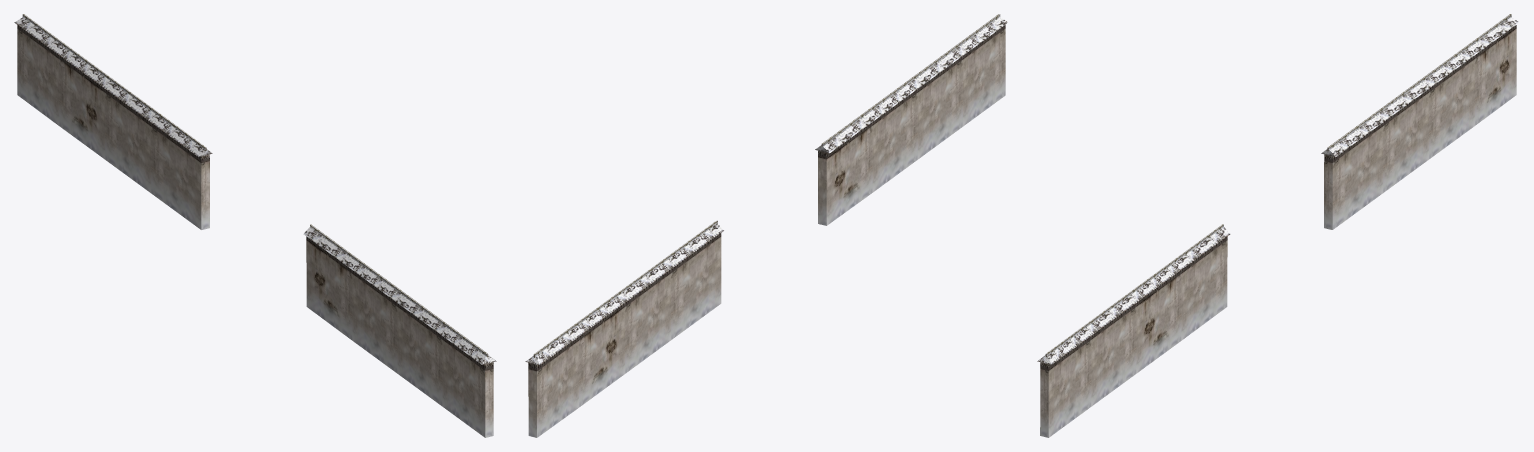
Rendered from aiqiang06.obj.
3 renders of one model, left to right at view 1: azimuth 30°, elevation 25°; view 2: azimuth 150°, elevation 25°; view 3: azimuth 330°, elevation 25°, orthographic.
Parts seen in each view (by area): view 1: aiqiang06; view 2: aiqiang06; view 3: aiqiang06.
Boxes of the visible parts, bbox=[...] form: aiqiang06: bbox=[14, 14, 496, 437]; aiqiang06: bbox=[525, 14, 1008, 437]; aiqiang06: bbox=[1037, 14, 1519, 437].
Size of the model in its own units: 18.8 by 99.05 by 1031.
